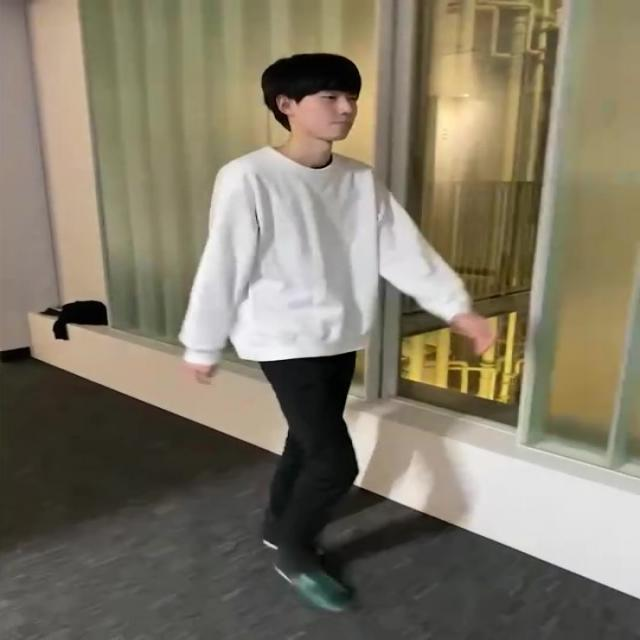direk: (178, 50, 502, 616)
